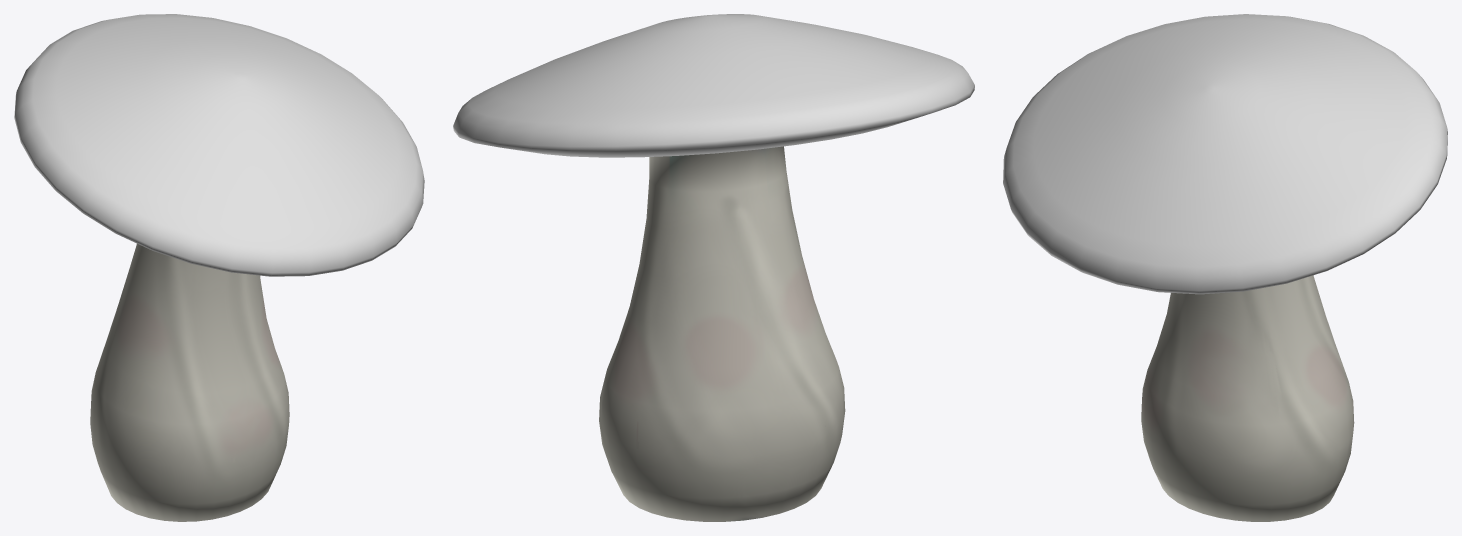
File: Mushroom.fbx
The picture shows the model from 3 angles, left to right: view 1: azimuth 30°, elevation 25°; view 2: azimuth 150°, elevation 25°; view 3: azimuth 270°, elevation 25°; orthographic projection. The views are drawn at different scales.
Visible parts, largest first — view 1: Cylinder.009; view 2: Cylinder.009; view 3: Cylinder.009.
Boxes of the visible parts, x1,y1,x2,y2 form: Cylinder.009: (14,14,424,521); Cylinder.009: (453,14,974,521); Cylinder.009: (1003,14,1447,521).
Size of the model in its own units: 25.62 by 26.42 by 25.48.
2 materials, 1 textured.
